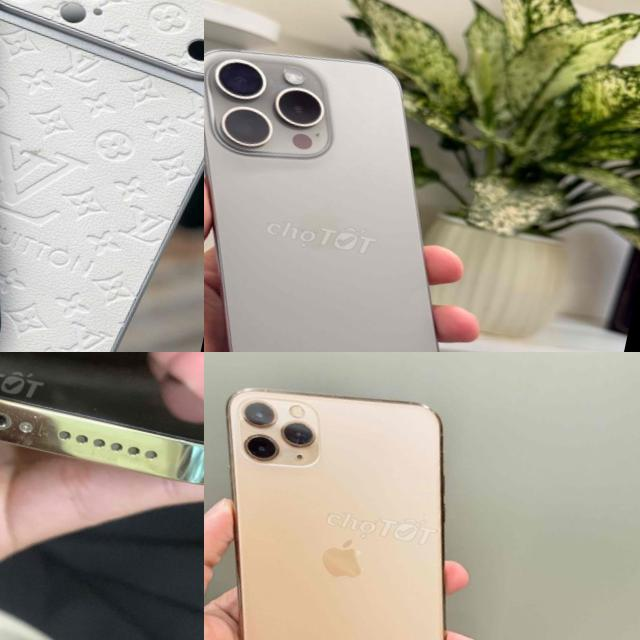gen_11: (226, 389, 444, 640)
gen_12_13: (0, 0, 89, 352)
gen_14: (0, 352, 204, 522)
gen_15: (204, 21, 521, 352)
scratch: (0, 352, 189, 492), (287, 427, 325, 452), (246, 444, 278, 465), (259, 398, 286, 422)
